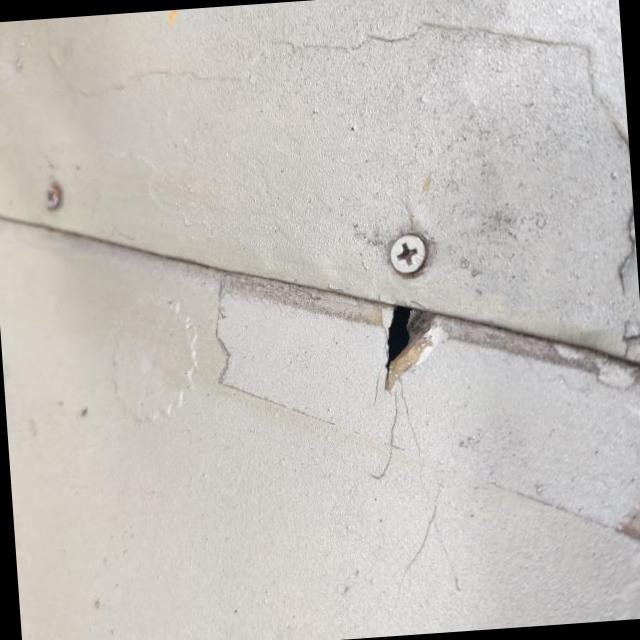Crack: (385, 306, 447, 392)
